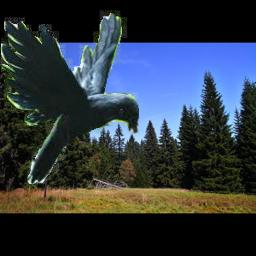Crow: (1, 8, 139, 184)
